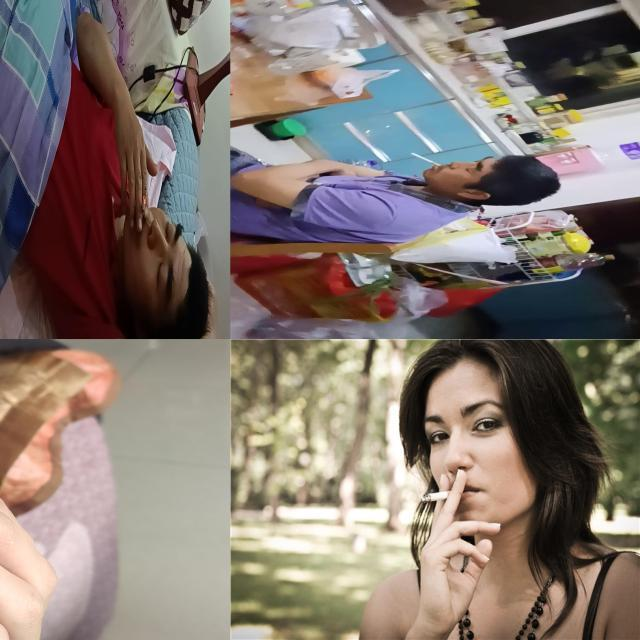smoking: (420, 488, 462, 502), (409, 152, 442, 167), (140, 186, 148, 224)
